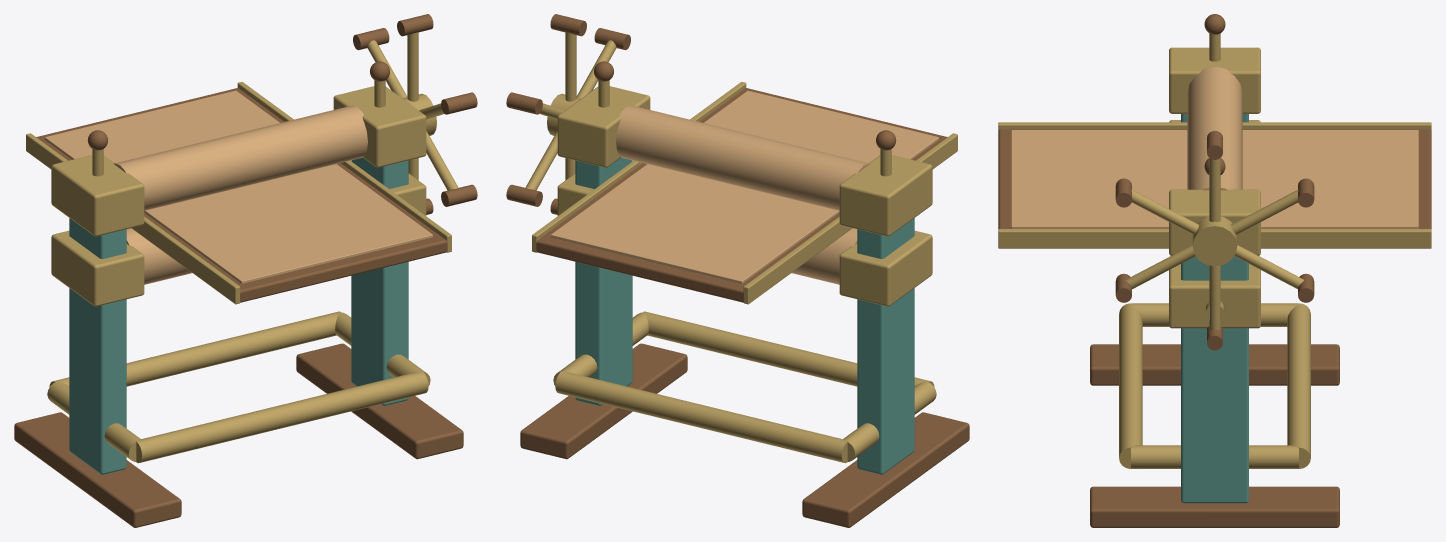
File: fantasy-cartographers-map-printing-guild-copperplate-r-99a8cba7__32242.glb
3 views of the same model, side by side, from view 1: azimuth 30°, elevation 25°; view 2: azimuth 150°, elevation 25°; view 3: azimuth 270°, elevation 25° (orthographic). The views are drawn at different scales.
Visible parts, largest first — view 1: copperplate-rolling-press; view 2: copperplate-rolling-press; view 3: copperplate-rolling-press.
Boxes of the visible parts, left/top/right/bottom form: copperplate-rolling-press: left=14, top=14, right=477, bottom=527; copperplate-rolling-press: left=506, top=14, right=969, bottom=527; copperplate-rolling-press: left=998, top=14, right=1431, bottom=527.
Size of the model in its own units: 1.62 by 1.66 by 1.65.
